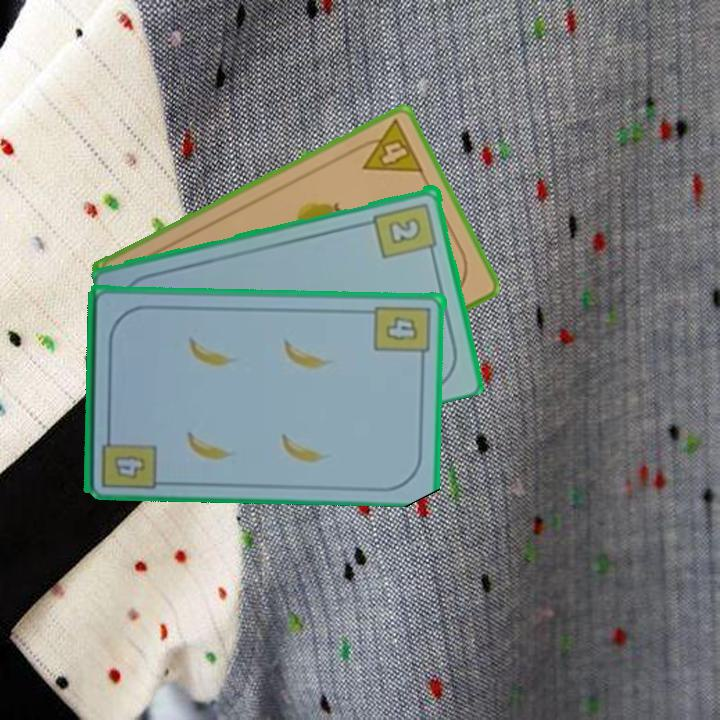2b: (370, 198, 440, 261)
4b: (97, 425, 159, 491), (372, 302, 434, 365)
4p: (350, 116, 427, 176)
